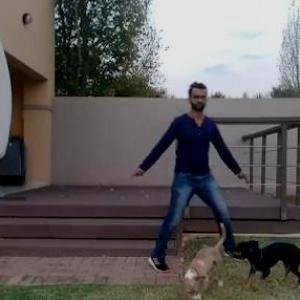land: (129, 96, 237, 274)
